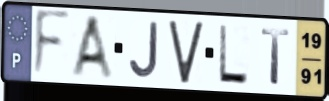A: (69, 13, 117, 82)
F: (31, 8, 73, 81)
J: (126, 20, 161, 81)
L: (216, 22, 251, 87)
T: (259, 26, 292, 87)
V: (166, 19, 205, 86)
